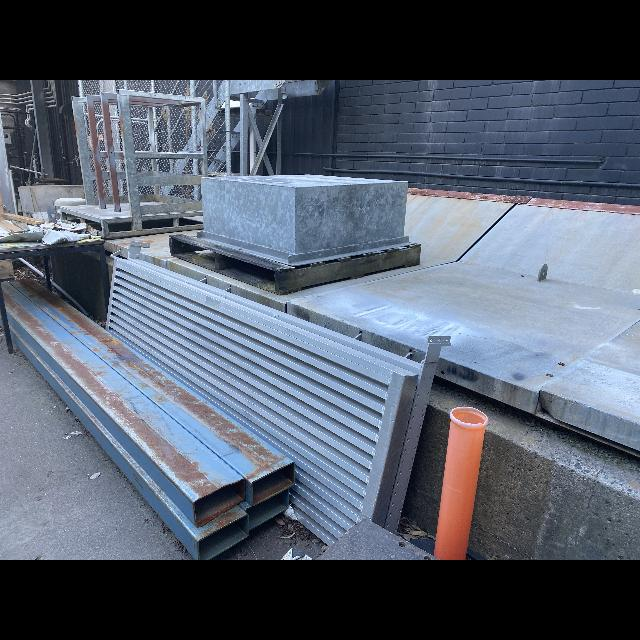Aluminium: (106, 243, 451, 548)
Ferrous Metal: (0, 278, 295, 560), (0, 245, 110, 314), (0, 281, 13, 353)
Galvanized Steel: (60, 80, 230, 238), (197, 173, 413, 267), (230, 80, 333, 176), (255, 99, 278, 143)
